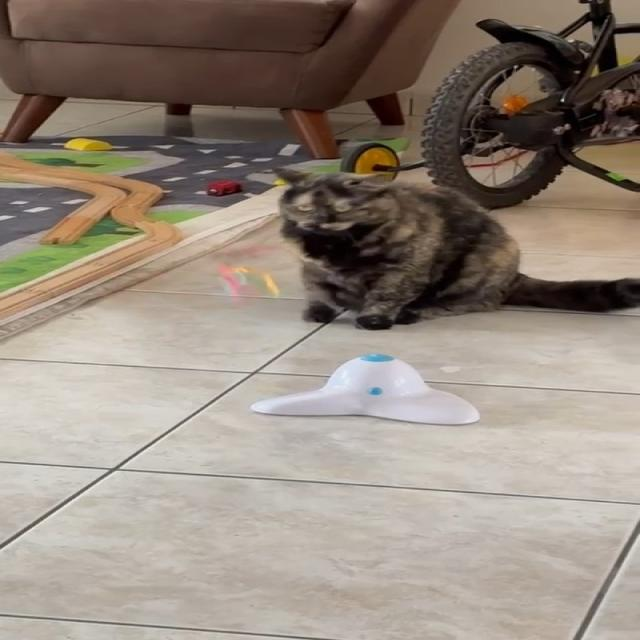authorized: (271, 166, 638, 331)
